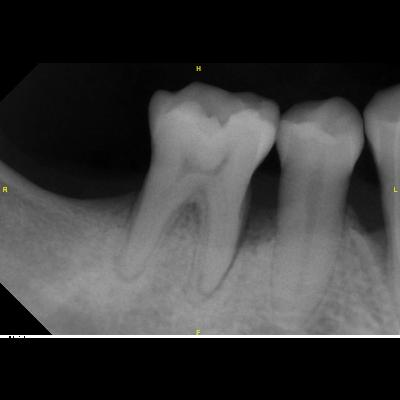tooth: (270, 94, 364, 334)
